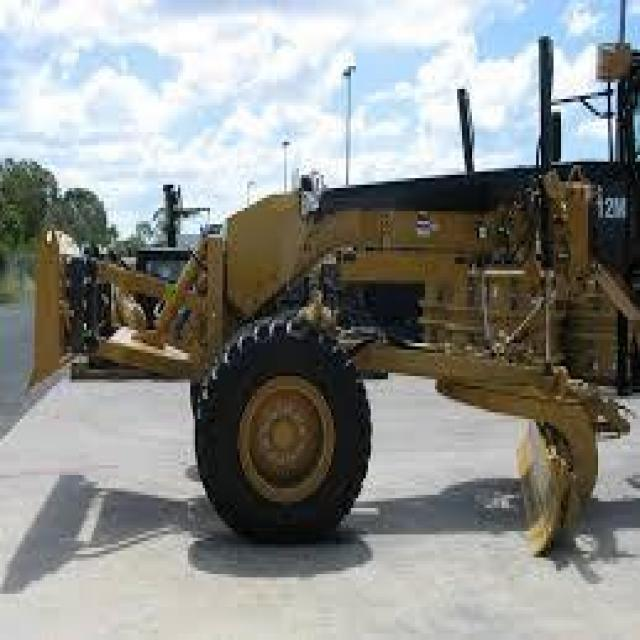Grader: (40, 69, 638, 620)
